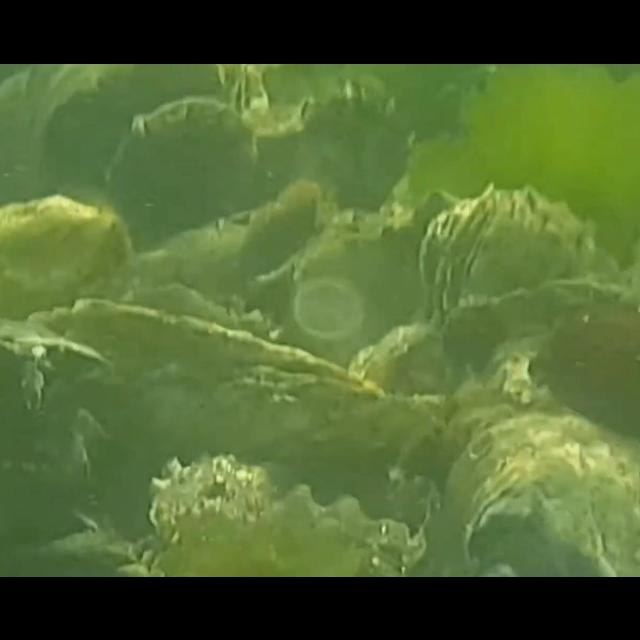Oyster-Closed: (29, 294, 383, 456), (351, 277, 640, 406), (148, 450, 428, 576), (437, 411, 640, 576), (418, 182, 598, 322), (107, 96, 259, 252), (287, 221, 427, 369), (0, 194, 130, 322), (295, 78, 409, 220), (0, 314, 112, 412)
